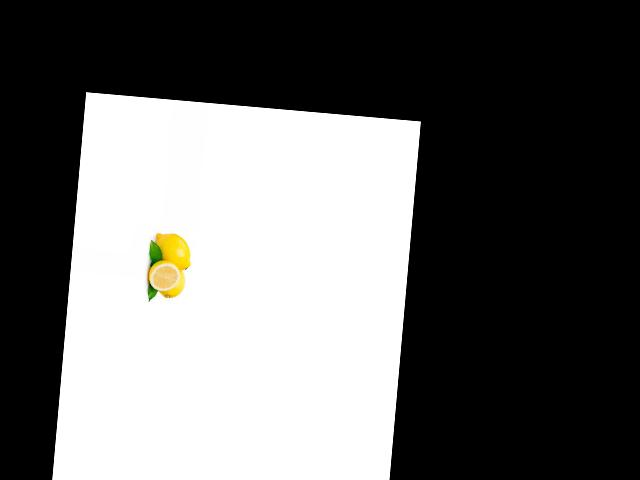lemon: (144, 258, 181, 291)
